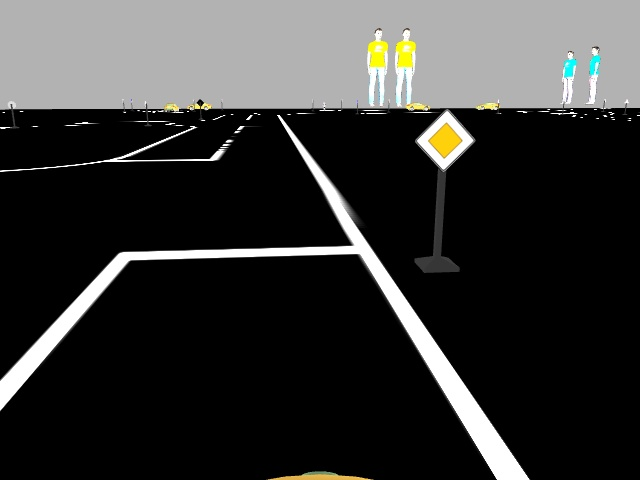Priority: (419, 107, 473, 169)
